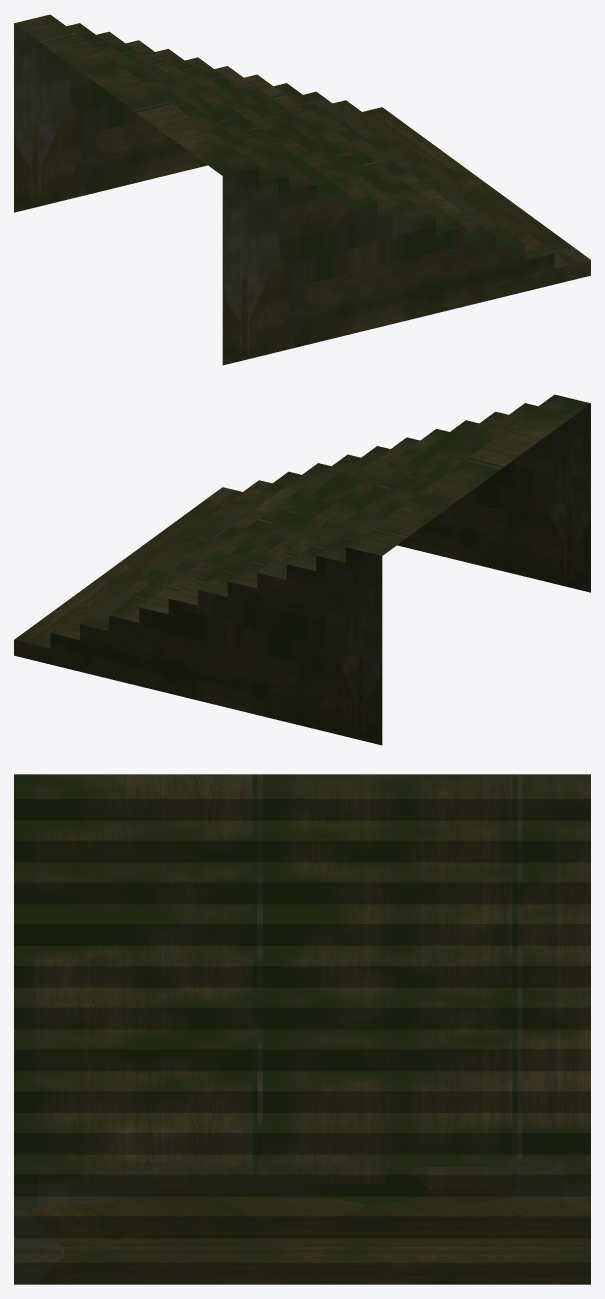
Rendered from underground_stairs_rock.fbx.
3 renders of one model, top to bottom at view 1: azimuth 30°, elevation 25°; view 2: azimuth 150°, elevation 25°; view 3: azimuth 270°, elevation 25°, orthographic. The views are drawn at different scales.
Visible parts, largest first — view 1: underground_stairs_rock; view 2: underground_stairs_rock; view 3: underground_stairs_rock.
Boxes of the visible parts, x1,y1,x2,y2 form: underground_stairs_rock: (14,14,590,365); underground_stairs_rock: (14,394,590,745); underground_stairs_rock: (14,774,590,1284).
Size of the model in its own units: 336 by 165 by 330.
1 material, 1 textured.
